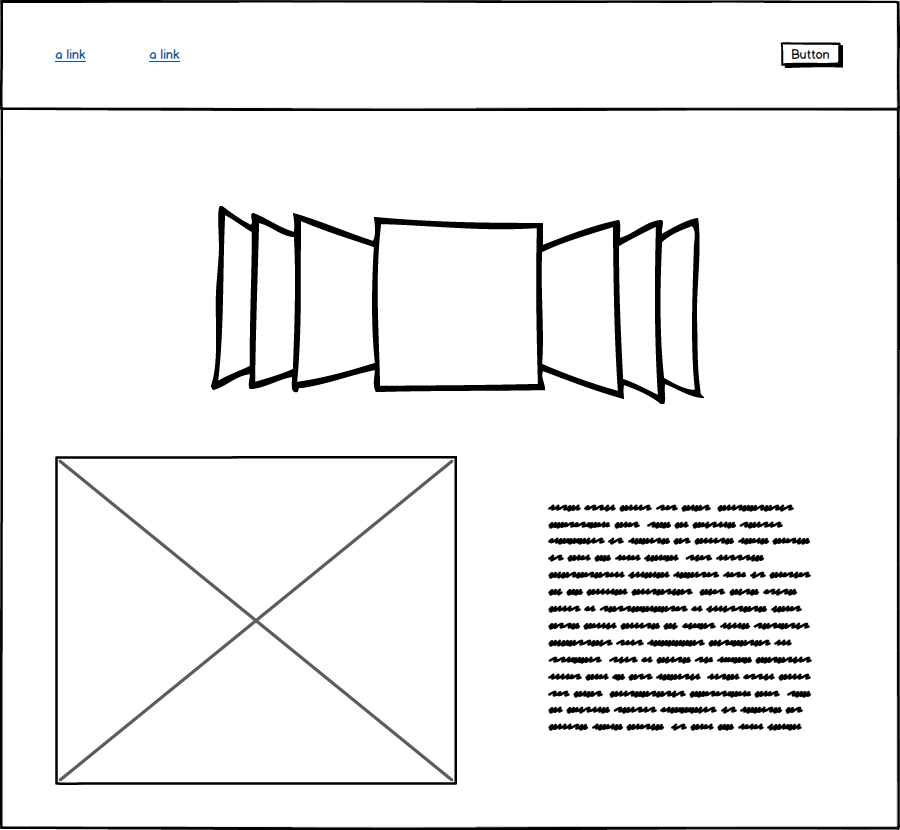button: (771, 38, 850, 74)
image: (45, 449, 464, 791)
navlink: (44, 40, 93, 67), (145, 42, 188, 71)
p: (539, 496, 826, 744)
slideshow: (198, 190, 725, 415)
